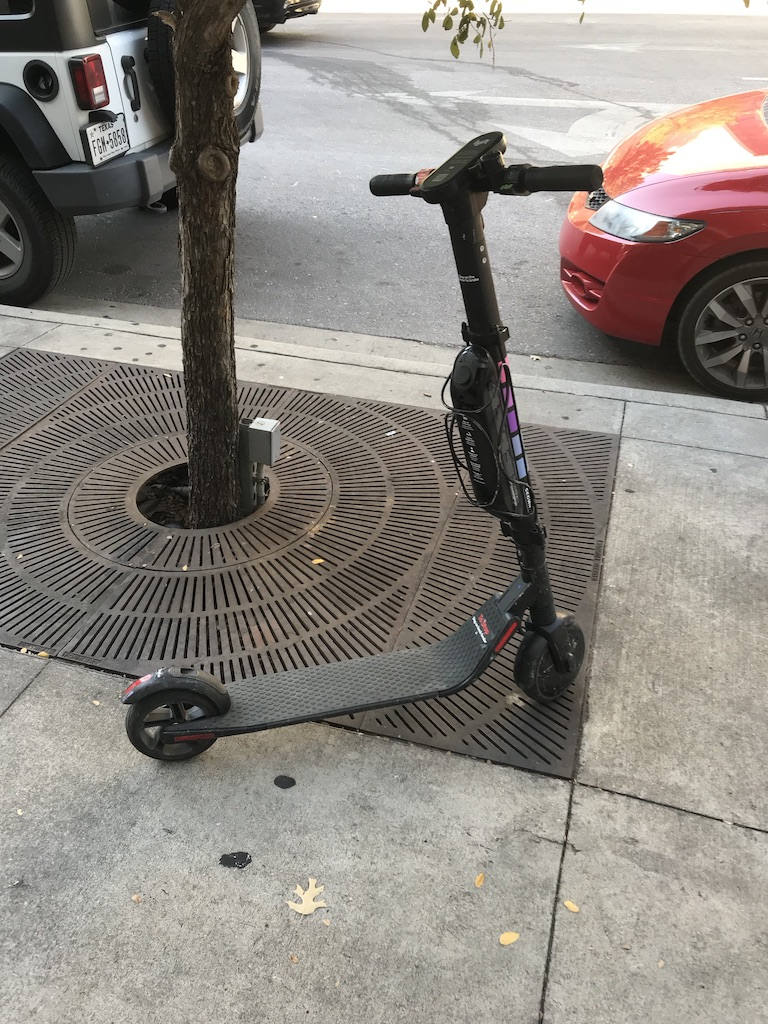scooter: (119, 131, 607, 760)
